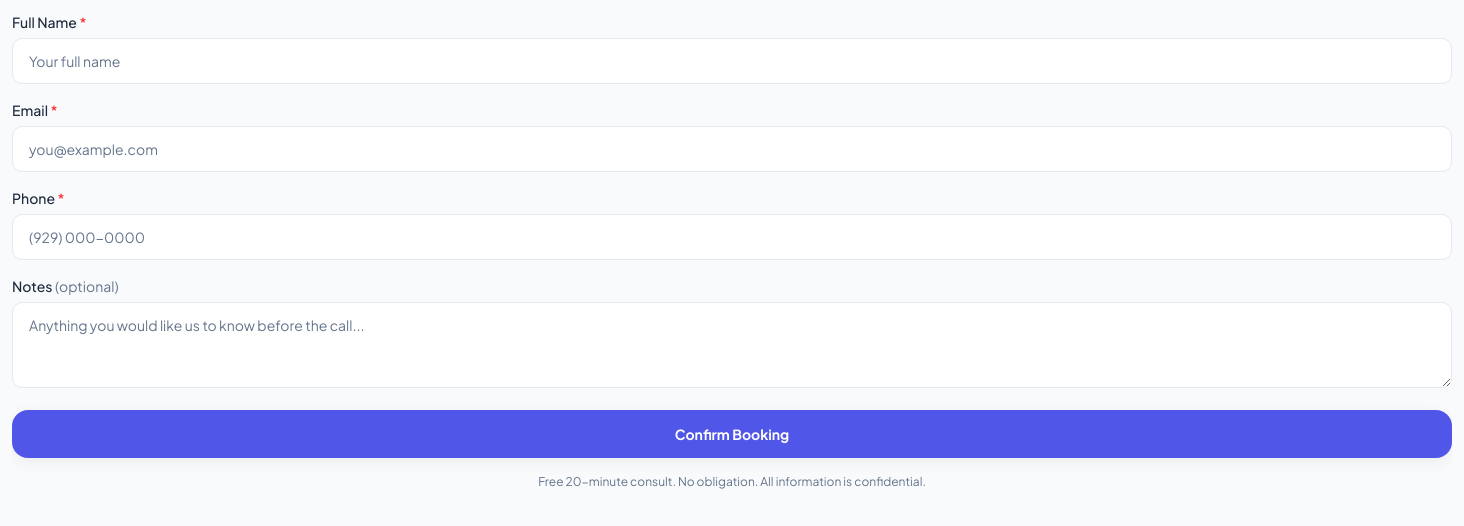
Test: BookingContactForm › shows phone validation error for short phone number
Type "123" into the field labelled "Phone *" at (732, 237), box [12, 214, 1452, 260]
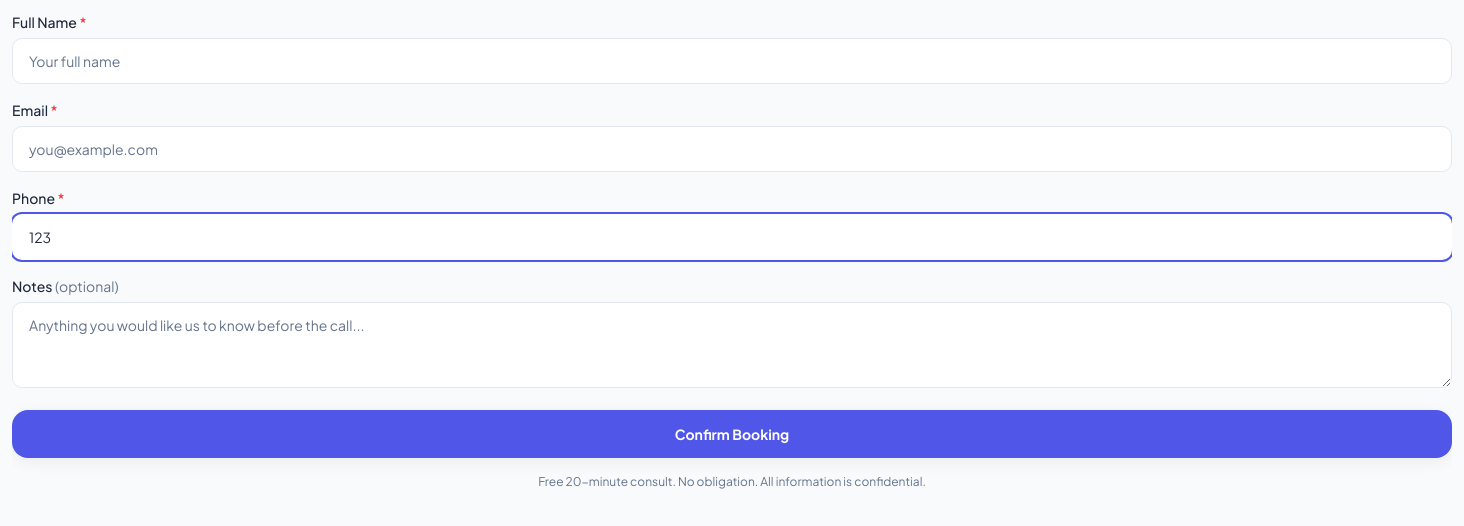
Press Tab
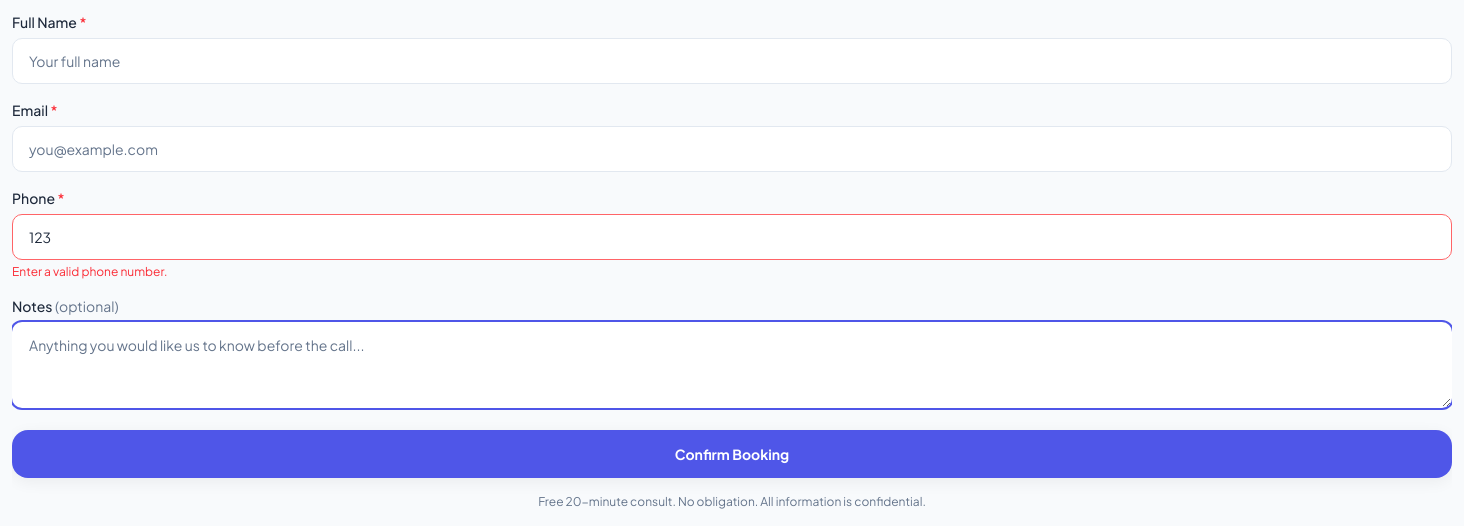
Result: the text "Enter a valid phone number." is shown at [12, 264, 168, 279]
